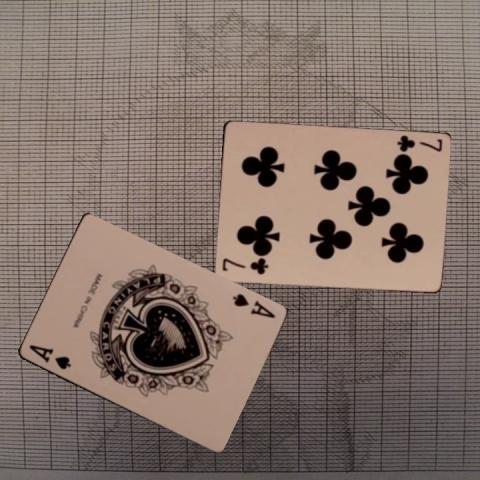7c: (219, 256, 269, 276), (394, 133, 443, 153)
As: (25, 342, 73, 372), (229, 291, 276, 320)
